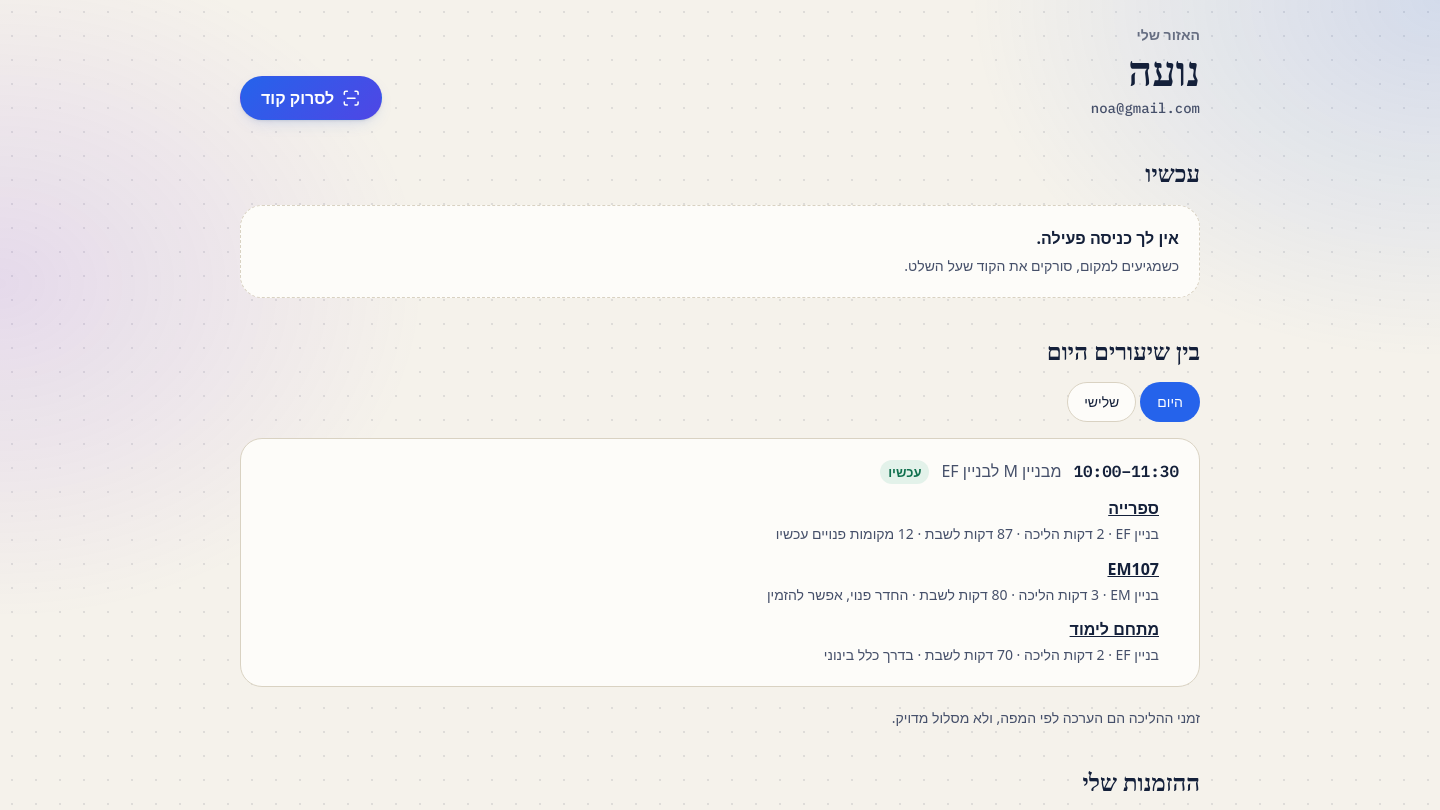
Test case: the timetable › "between classes" can show another day of the week
Step 1. Click the button "שלישי" → [1102, 402], box [1067,382,1136,422]
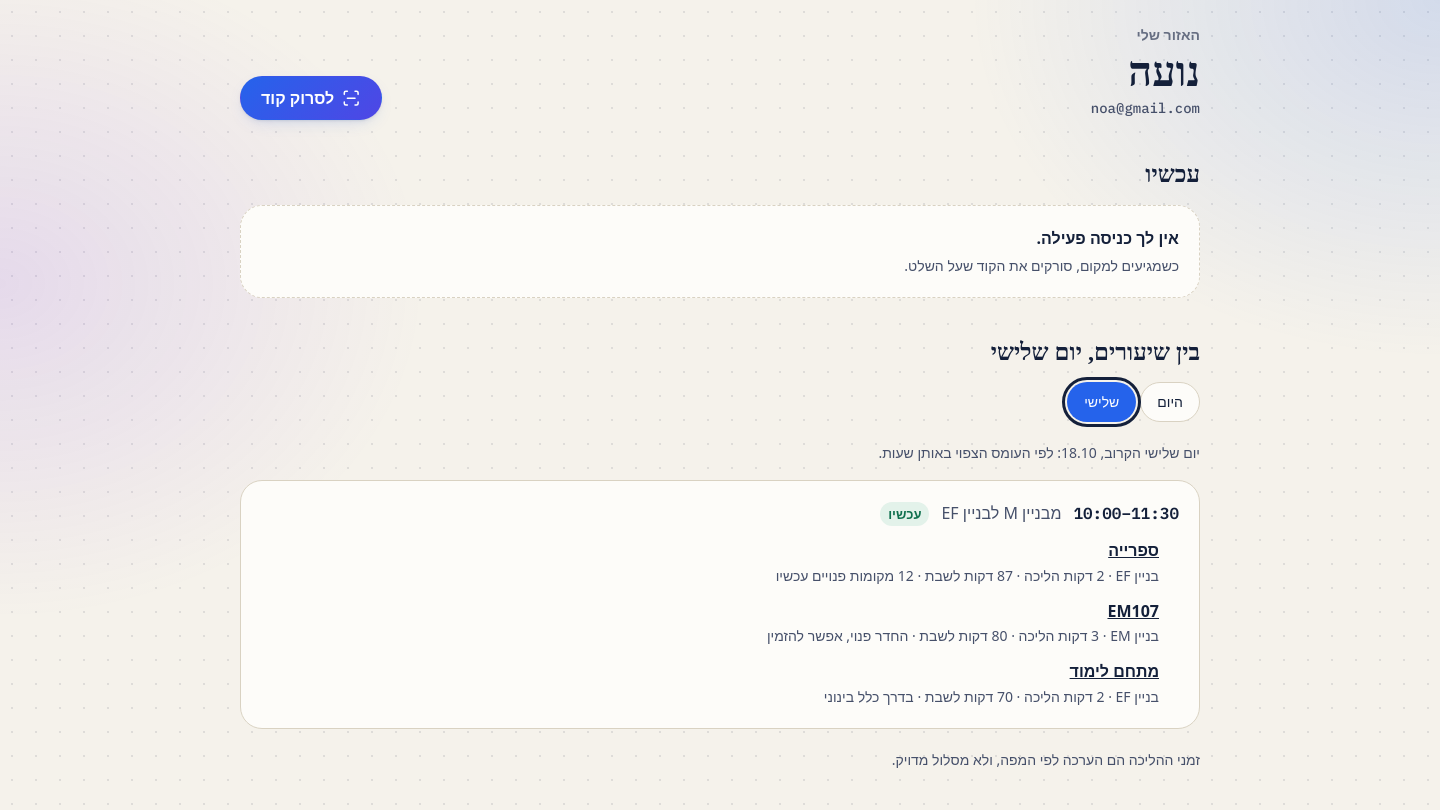
Check: the element "בין שיעורים, יום שלישי" is shown, box [240,338,1200,770]
